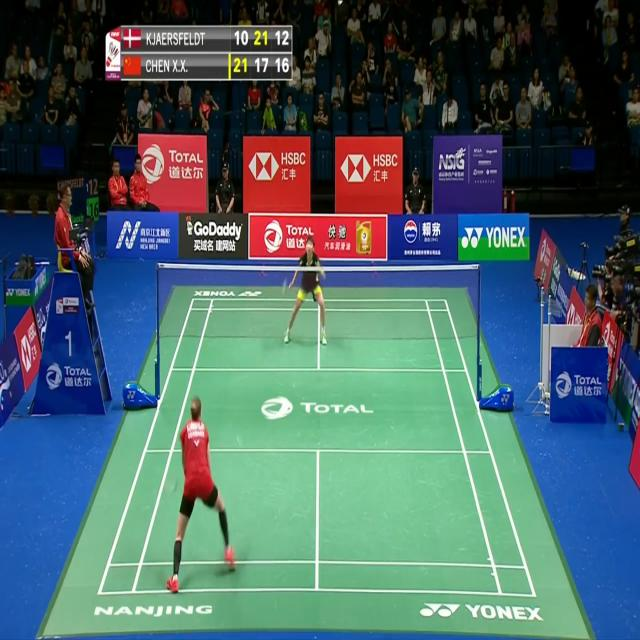Player1: (167, 391, 237, 597)
Player2: (282, 233, 334, 352)
